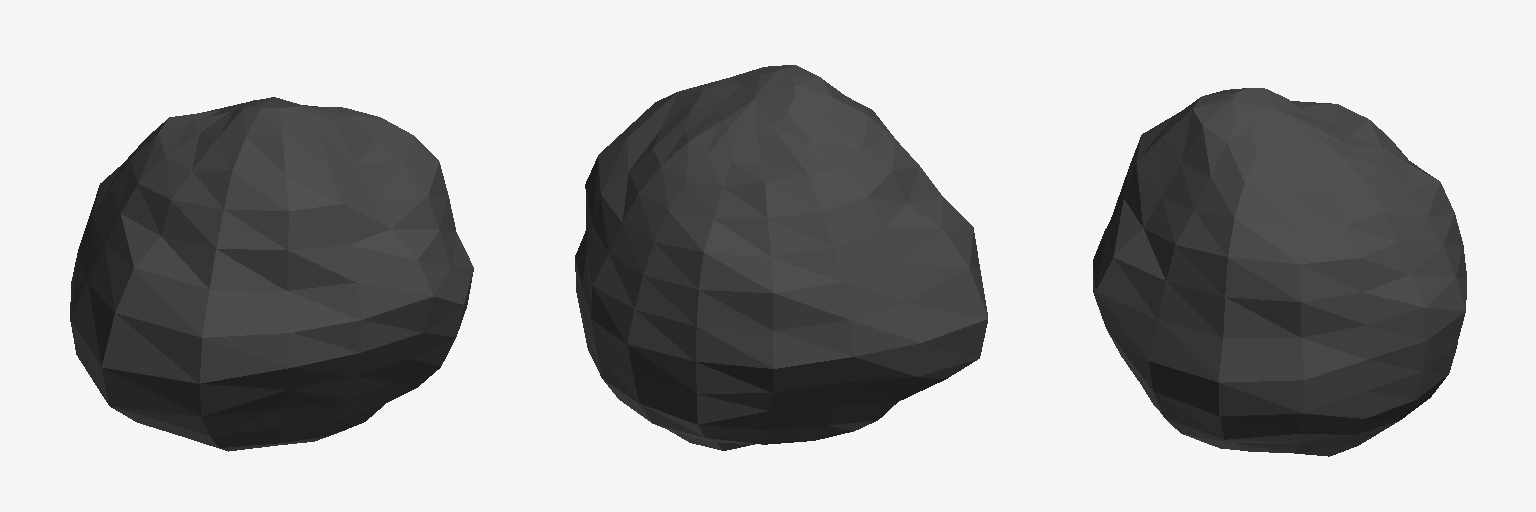
File: rocaTutorial.obj
3 renders of one model, left to right at view 1: azimuth 30°, elevation 25°; view 2: azimuth 150°, elevation 25°; view 3: azimuth 270°, elevation 25°, orthographic.
Visible parts, largest first — view 1: Sphere.099; view 2: Sphere.099; view 3: Sphere.099.
Boxes of the visible parts, x1,y1,x2,y2 form: Sphere.099: [70, 97, 473, 451]; Sphere.099: [575, 65, 987, 450]; Sphere.099: [1093, 88, 1466, 456].
Bounding box in the file's own units: 0.424 × 0.3538 × 0.3667.